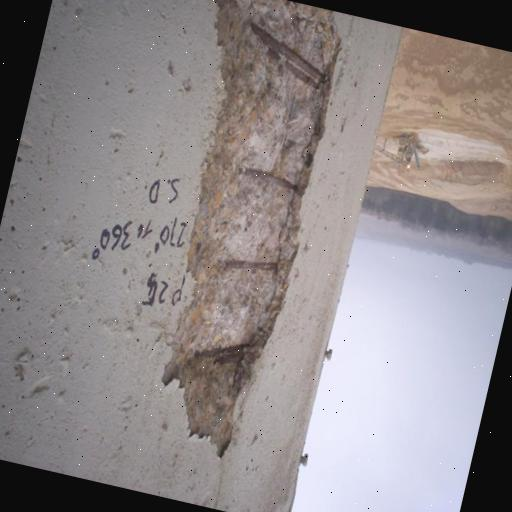spalling: (112, 0, 360, 466)
